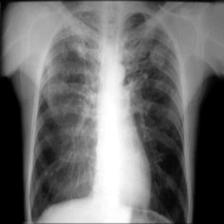tuberculosis: (25, 5, 194, 224)
